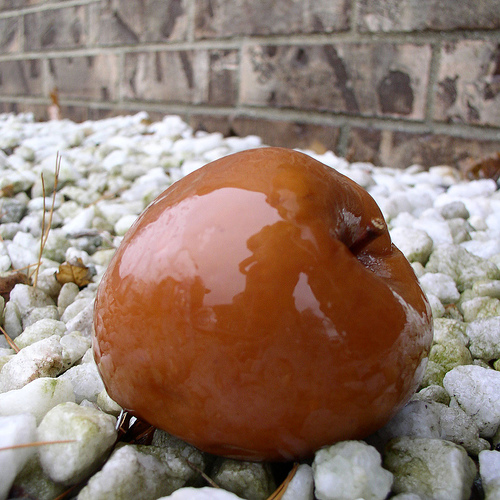apple: (90, 146, 435, 462)
